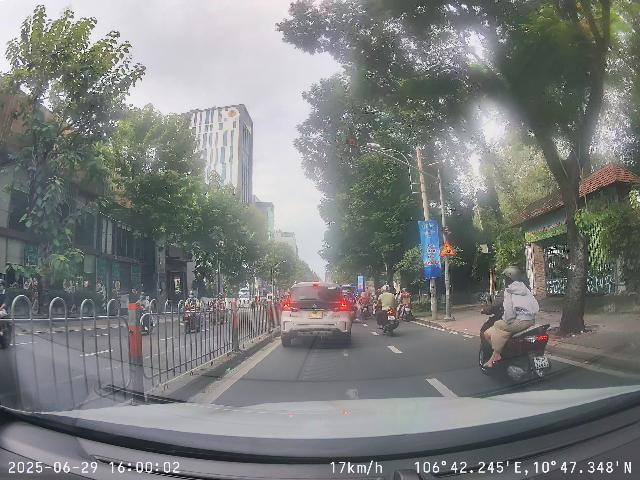245-di-cham: (440, 241, 455, 256)
